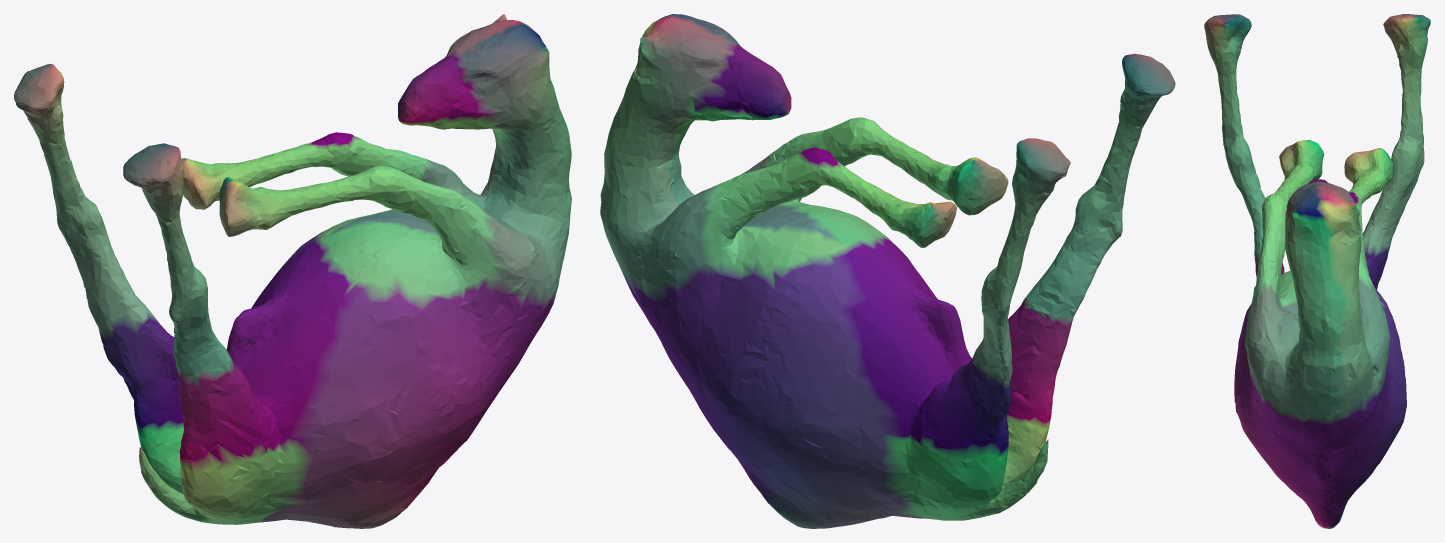
File: camel-16.off.obj
3 renders of one model, left to right at view 1: azimuth 30°, elevation 25°; view 2: azimuth 150°, elevation 25°; view 3: azimuth 270°, elevation 25°, orthographic. The views are drawn at different scales.
Size of the model in its own units: 1.31 by 1.21 by 0.6195.
